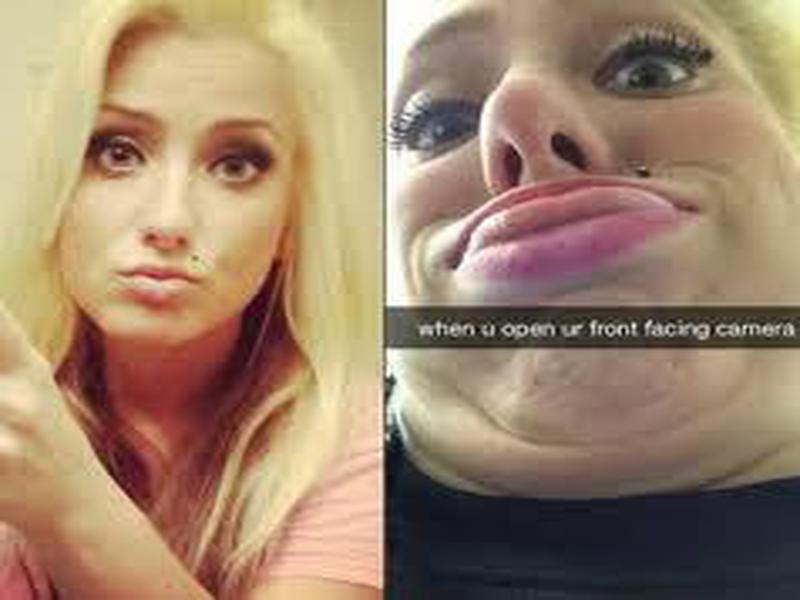without_mask: (394, 2, 792, 440), (62, 36, 296, 346)
